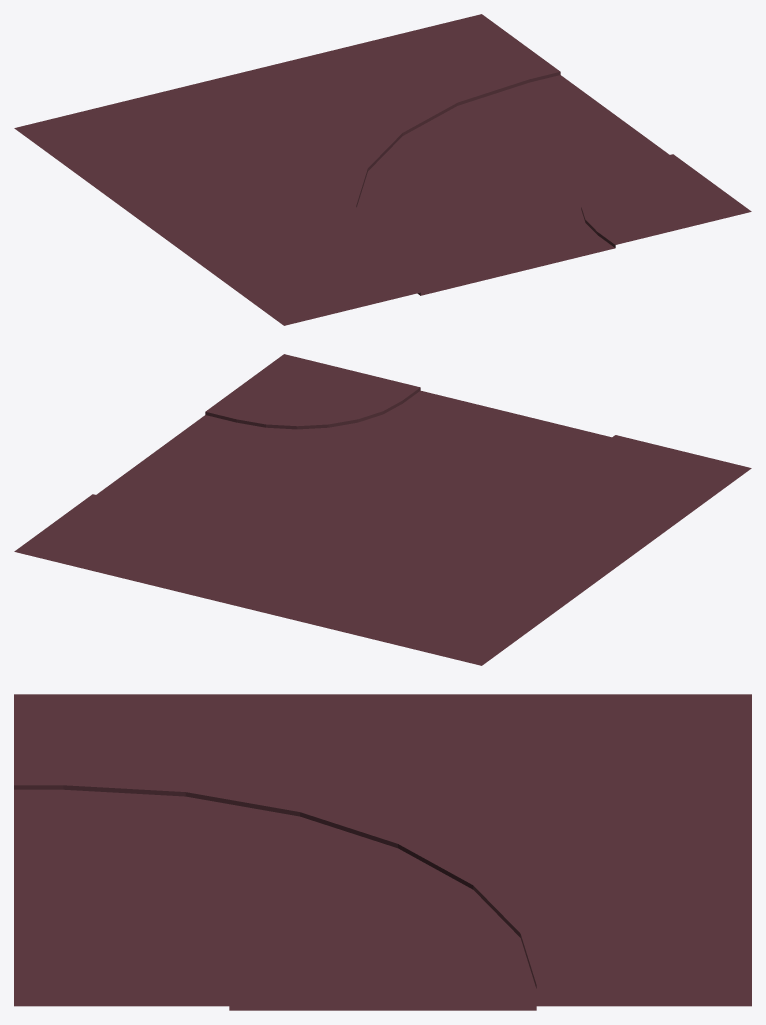
Rendered from tile-mainroad-curve-nb.fbx.
3 views of the same model, one above another, from view 1: azimuth 30°, elevation 25°; view 2: azimuth 150°, elevation 25°; view 3: azimuth 270°, elevation 25° (orthographic). The views are drawn at different scales.
Visible parts, largest first — view 1: tile-mainroad-curve-nb; view 2: tile-mainroad-curve-nb; view 3: tile-mainroad-curve-nb.
Part boxes in pixels (<box>): tile-mainroad-curve-nb: <box>14,14,751,325</box>; tile-mainroad-curve-nb: <box>14,354,751,665</box>; tile-mainroad-curve-nb: <box>14,694,751,1010</box>.
Size of the model in its own units: 30 by 0.2 by 30.
